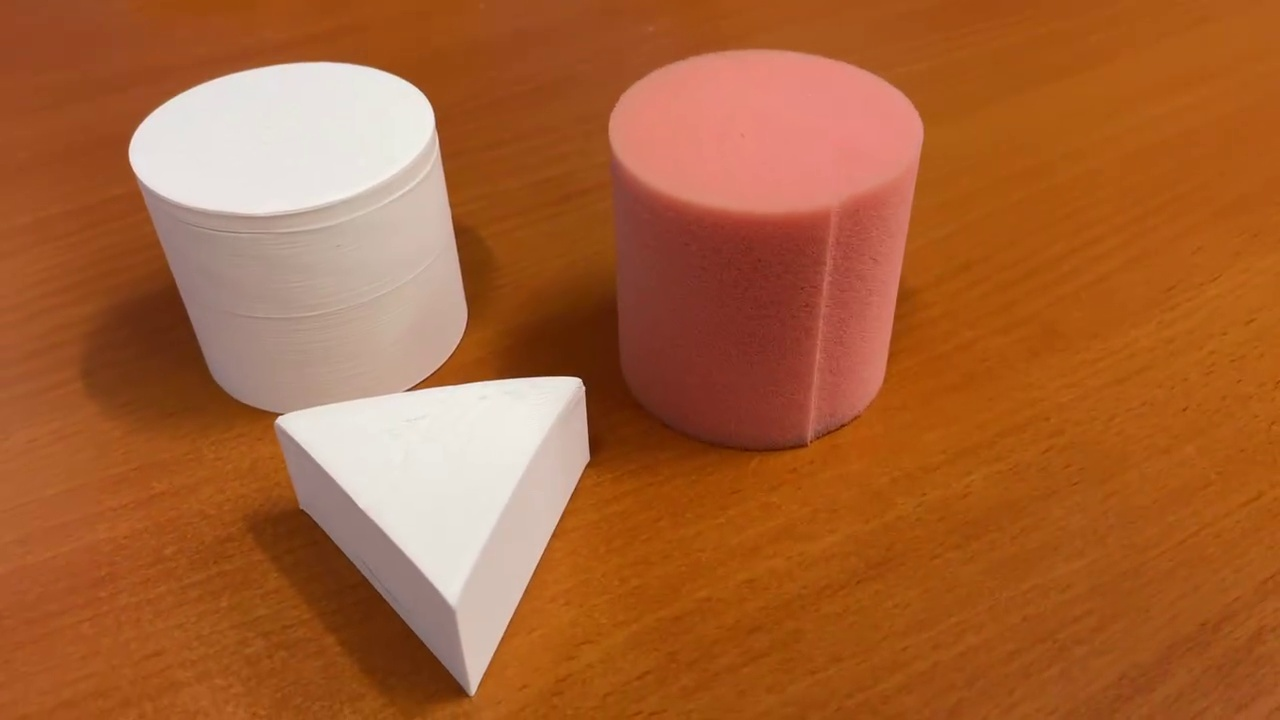Cylinder: (600, 45, 929, 453), (130, 57, 470, 417)
Triangle_short: (268, 359, 594, 702)
